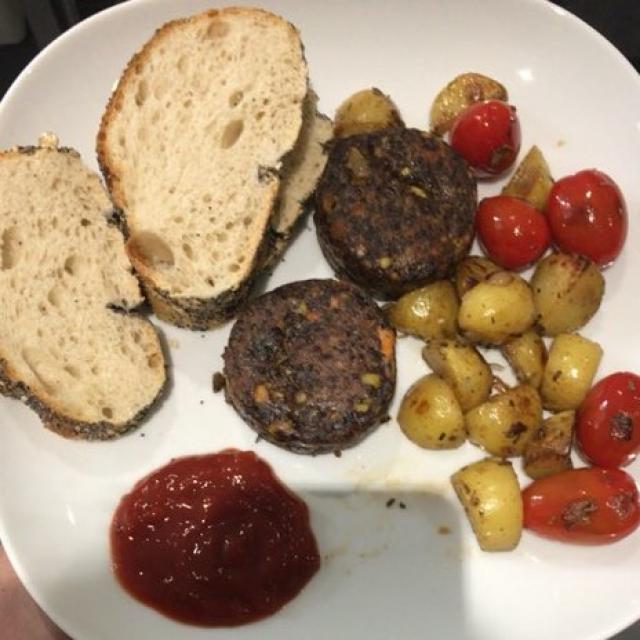bread-white: (0, 19, 340, 445)
ketchup: (111, 457, 321, 621)
potatoes-steamed: (401, 155, 614, 571)
tomato-raw: (449, 101, 639, 542)
veggie-burger: (222, 139, 473, 454)
